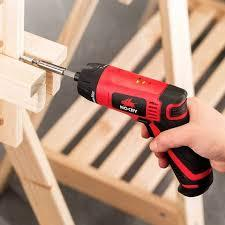screwdriver: (36, 57, 213, 197)
